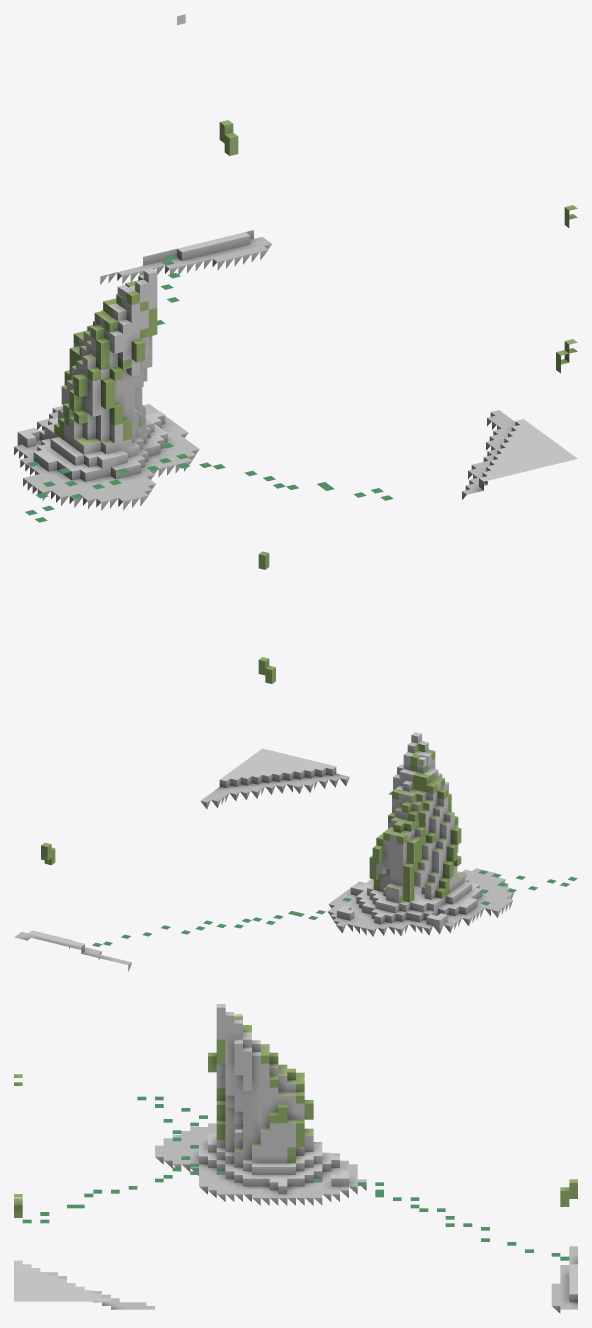
3 renders of one model, top to bottom at view 1: azimuth 30°, elevation 25°; view 2: azimuth 150°, elevation 25°; view 3: azimuth 270°, elevation 25°, orthographic. The views are drawn at different scales.
Parts seen in each view (by area): view 1: opaco, recorte; view 2: opaco, recorte; view 3: opaco, recorte.
Part boxes in pixels (x1=…): opaco: x1=14, y1=230, x2=577, y2=510; recorte: x1=25, y1=14, x2=577, y2=522; opaco: x1=14, y1=732, x2=513, y2=971; recorte: x1=41, y1=551, x2=577, y2=946; opaco: x1=14, y1=1004, x2=577, y2=1313; recorte: x1=14, y1=1014, x2=577, y2=1260.
Bounding box in the file's own units: 55 × 30 × 64.
